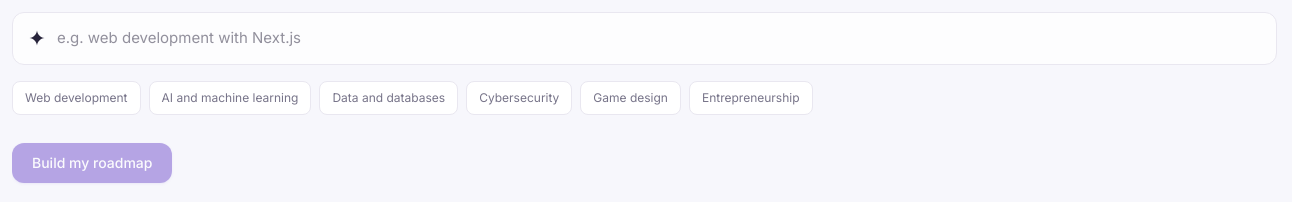
Test case: a suggestion fills the box
What coordinates should you click on to do the following:
click the button "Web development"
I would click on:
 (76, 98)
Its box is x1=12 y1=80 x2=140 y2=114.
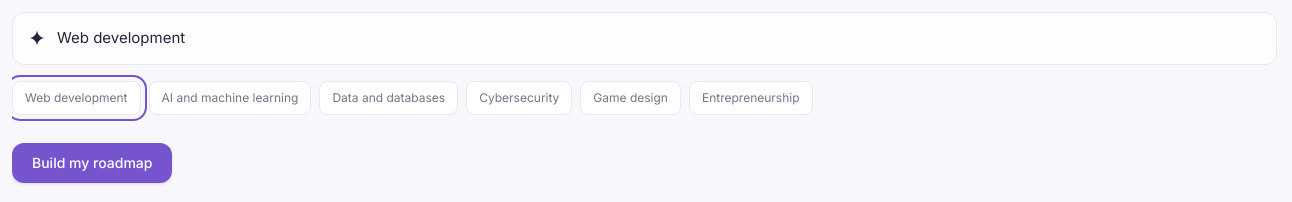
Result: the field named "Your interest" holds "Web development" at x1=12 y1=12 x2=1277 y2=64
